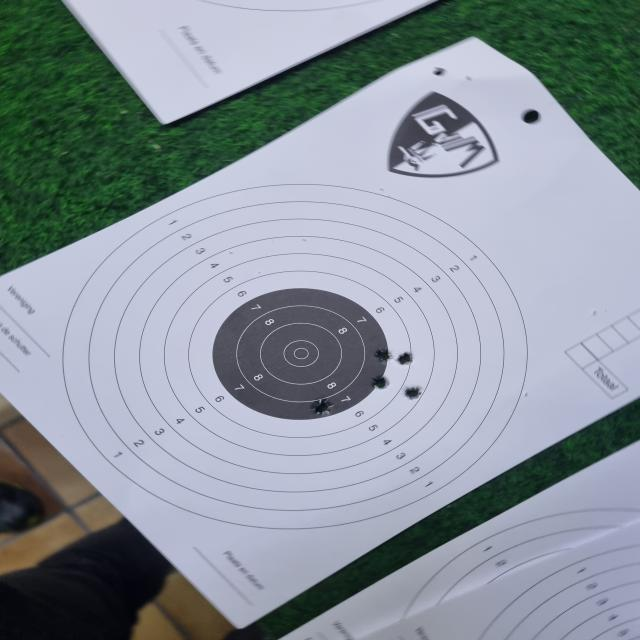6: (404, 386, 422, 399), (397, 352, 413, 366)
7: (310, 400, 333, 416), (374, 348, 394, 363), (371, 376, 390, 390)
Target: (60, 183, 529, 530)
black_contour: (212, 289, 387, 418)
